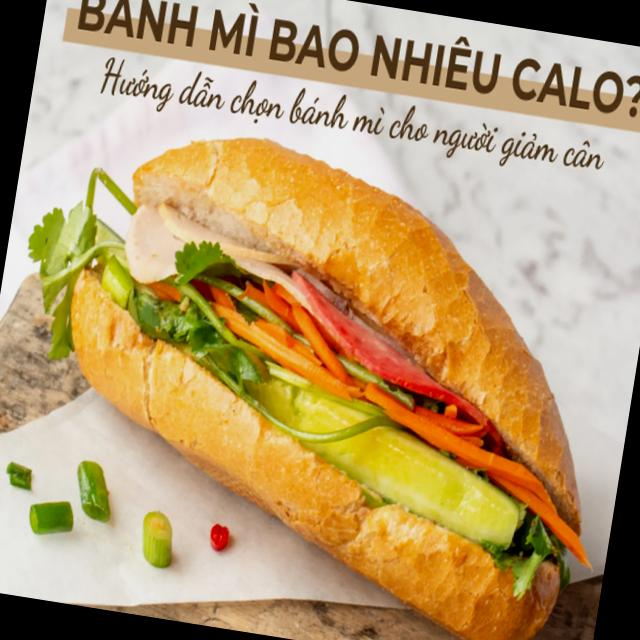banh mi: (71, 139, 589, 640)
rau ngo: (28, 168, 137, 359)
